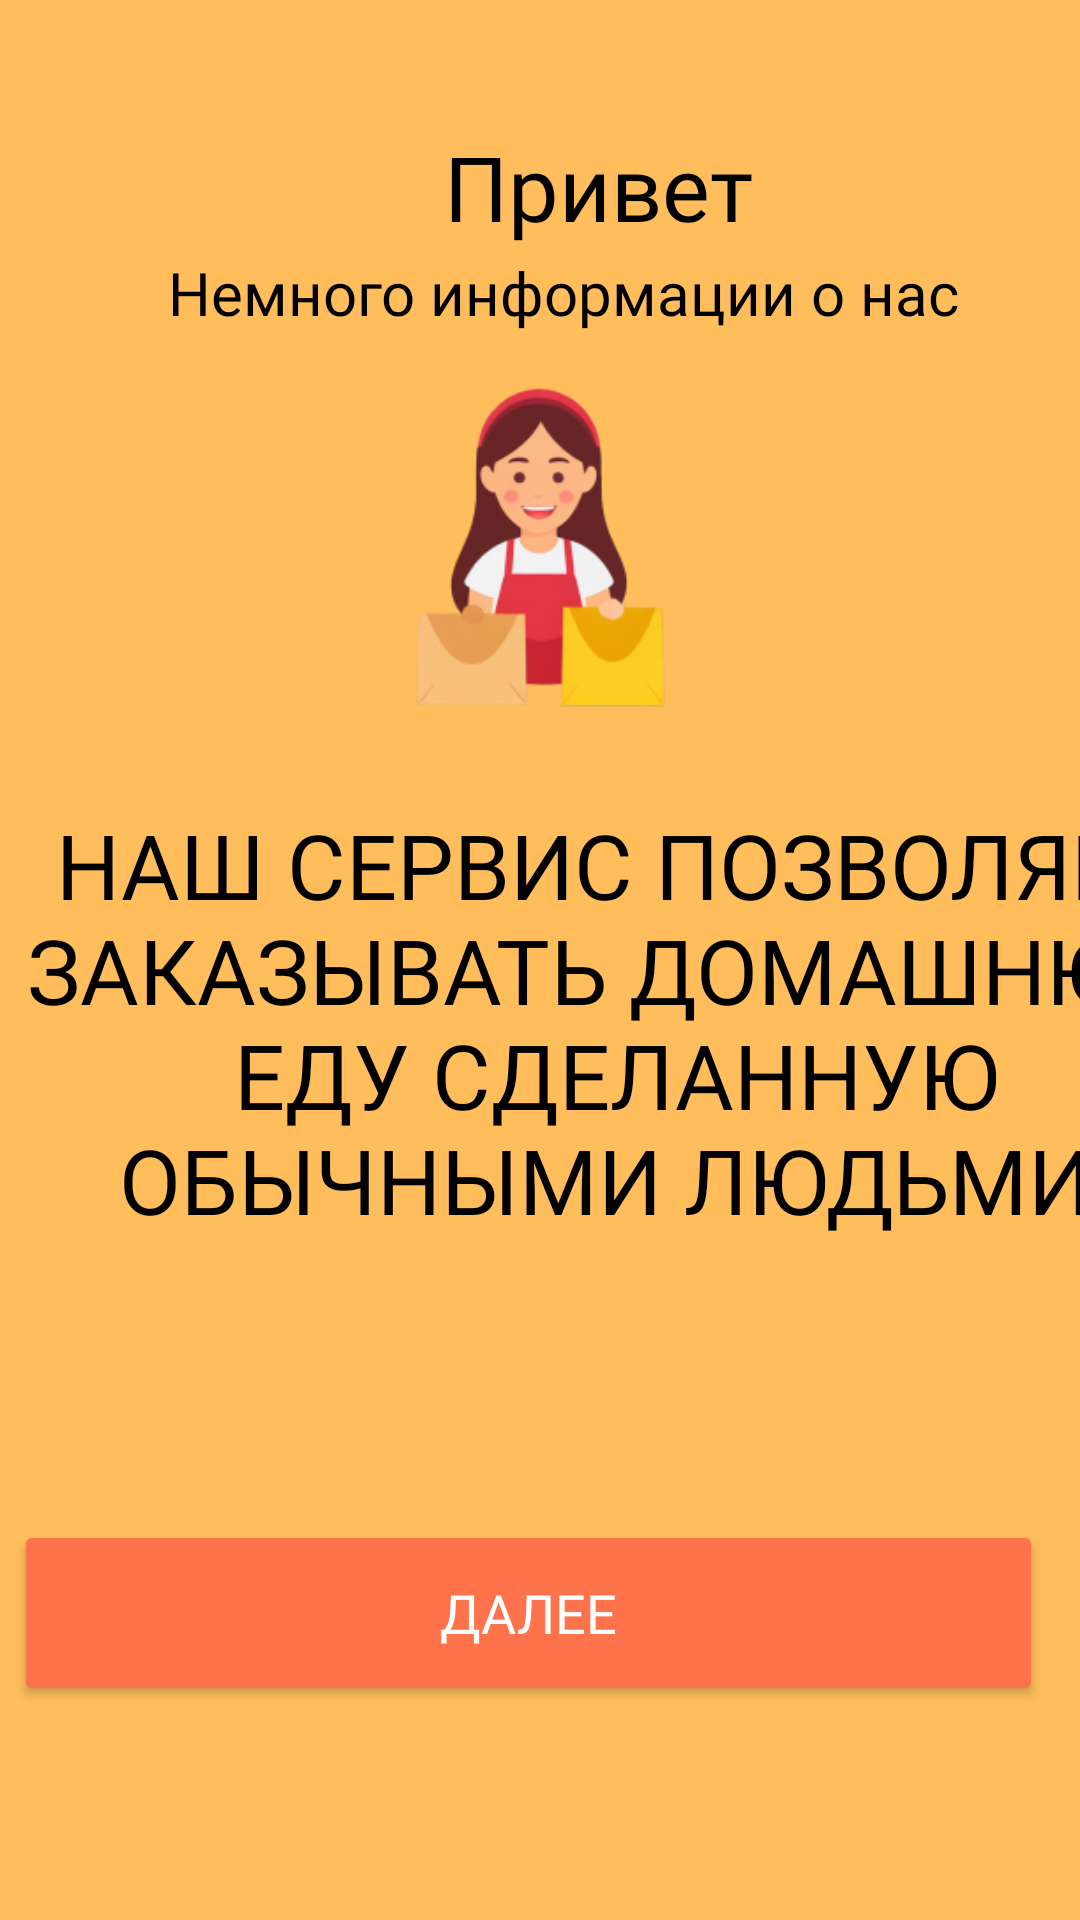

Icons on this 1080x1920 Android screen, each with the point to tap as point (x, y):
girl: point (541, 547)
